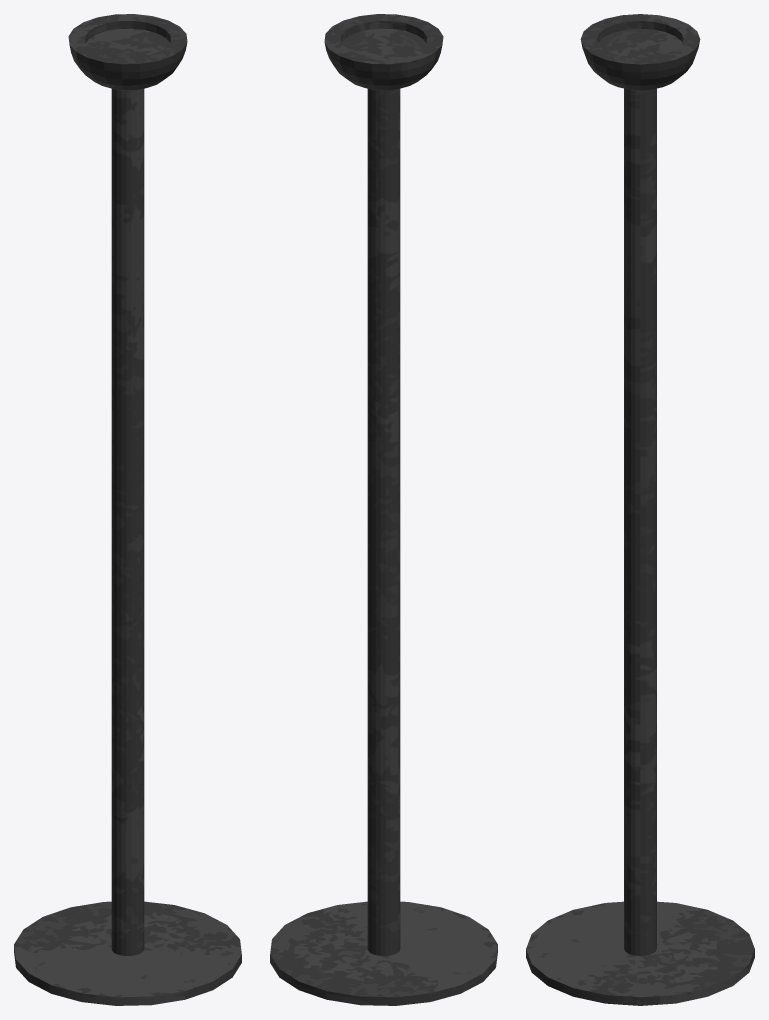
File: Candelabro_alto.fbx
3 views of the same model, side by side, from view 1: azimuth 30°, elevation 25°; view 2: azimuth 150°, elevation 25°; view 3: azimuth 270°, elevation 25° (orthographic).
Visible parts, largest first — view 1: Cylinder001; view 2: Cylinder001; view 3: Cylinder001.
Boxes of the visible parts, x1=… form: Cylinder001: x1=14, y1=14, x2=241, y2=1005; Cylinder001: x1=270, y1=14, x2=497, y2=1005; Cylinder001: x1=526, y1=14, x2=754, y2=1005.
Size of the model in its own units: 0.3048 by 1.35 by 0.3048.
1 material, 1 textured.
